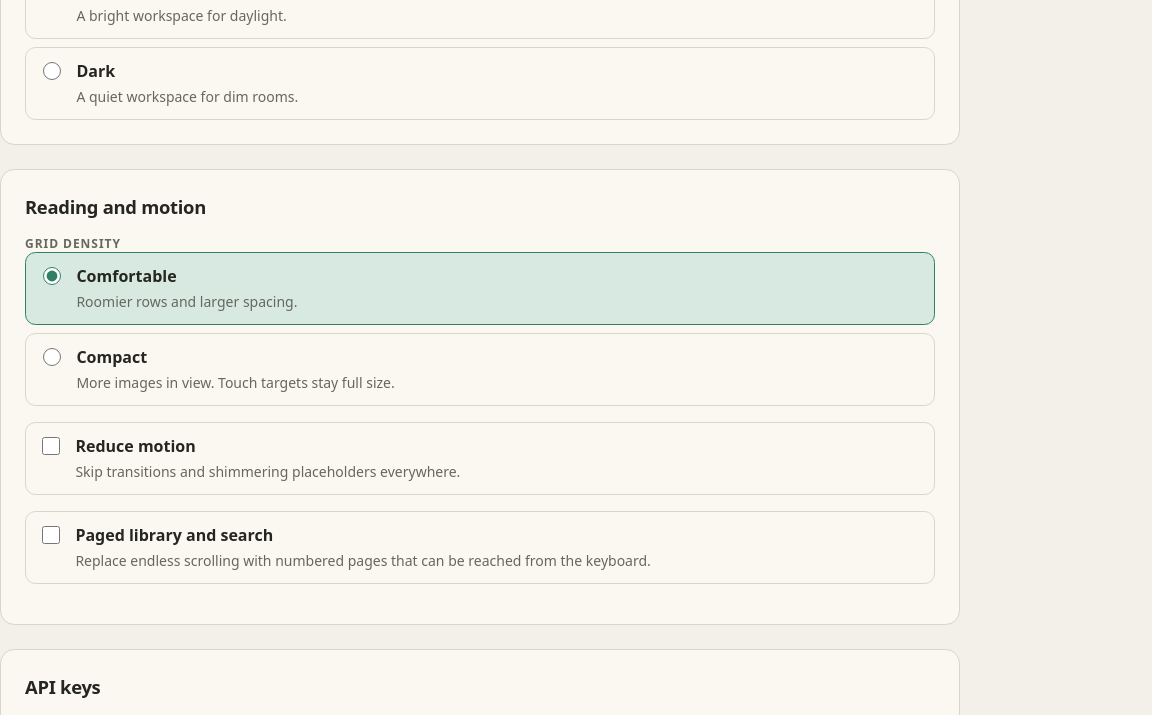
Test: settings: device preferences › saves a reading preference to the account with its version
The width and height of the screenshot is (1152, 715).
(page scrolled)
What coordinates should you click on to do the following:
click the radio button labelled "Compact"
I would click on:
 (52, 357)
Its box is [43,348,61,366].
(page scrolled)
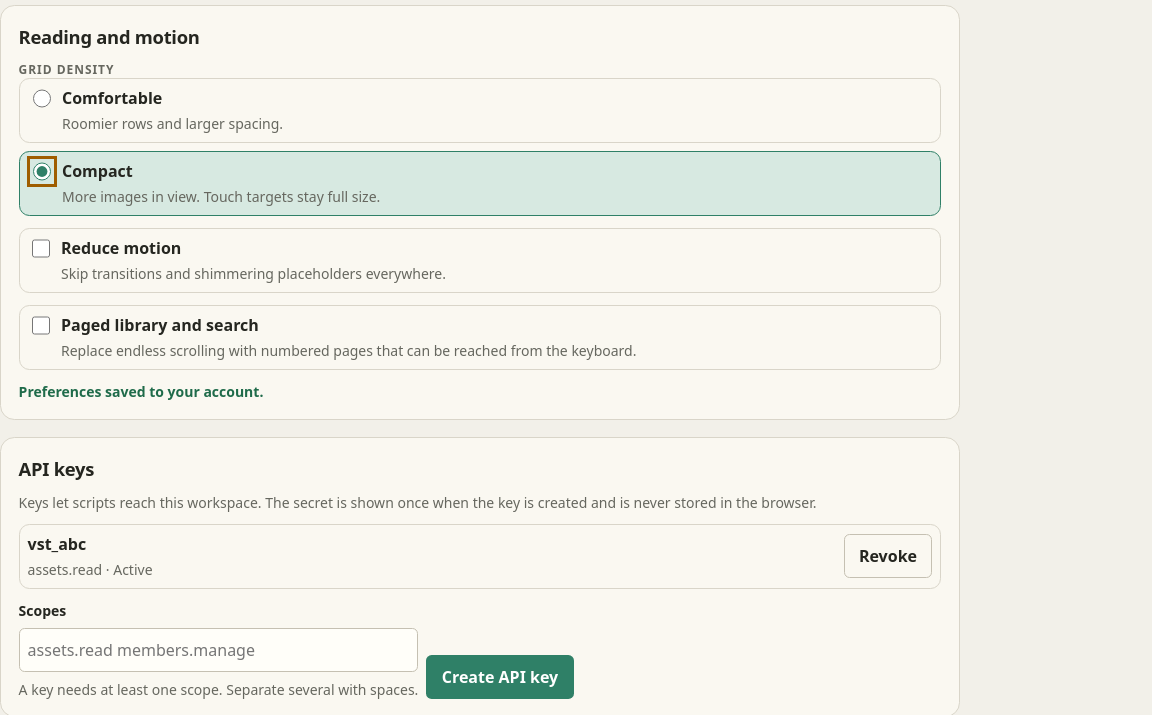
Check: the text "Preferences saved to your account." is shown, box [19,382,263,401]
